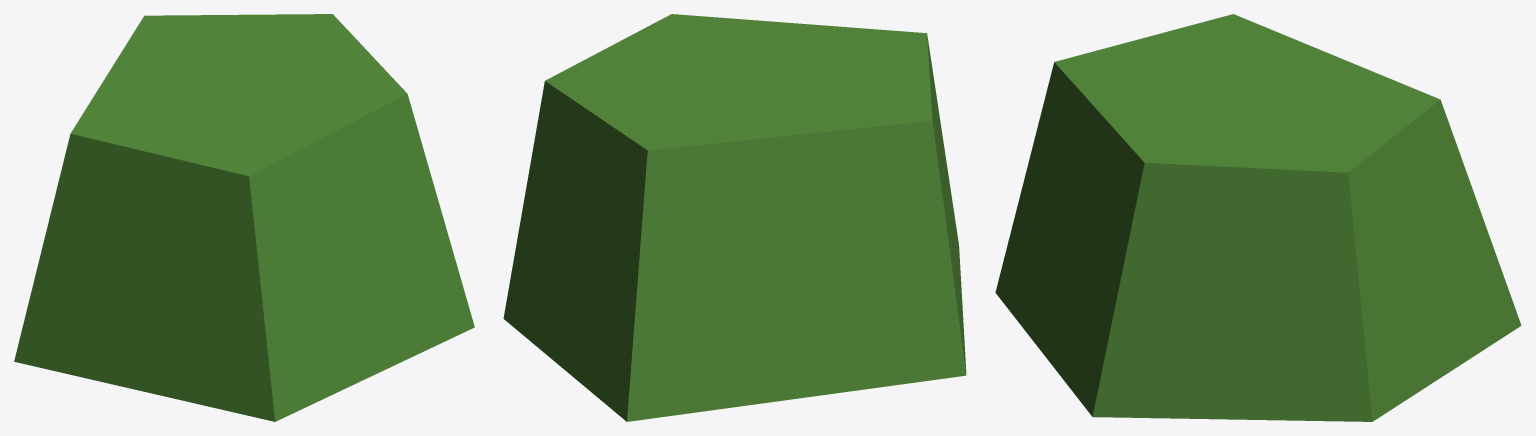
The model's file is grass_layer_crumb_spec_C.fbx.
The picture shows the model from 3 angles, left to right: view 1: azimuth 30°, elevation 25°; view 2: azimuth 150°, elevation 25°; view 3: azimuth 270°, elevation 25°; orthographic projection. The views are drawn at different scales.
Parts seen in each view (by area): view 1: grass_layer_crumb_spec_C; view 2: grass_layer_crumb_spec_C; view 3: grass_layer_crumb_spec_C.
Part boxes in pixels (box(x1,y1,x2,y2)): grass_layer_crumb_spec_C: box(14, 14, 474, 421); grass_layer_crumb_spec_C: box(503, 14, 966, 421); grass_layer_crumb_spec_C: box(995, 14, 1521, 421).
Bounding box in the file's own units: 28.31 × 15.8 × 31.96.
